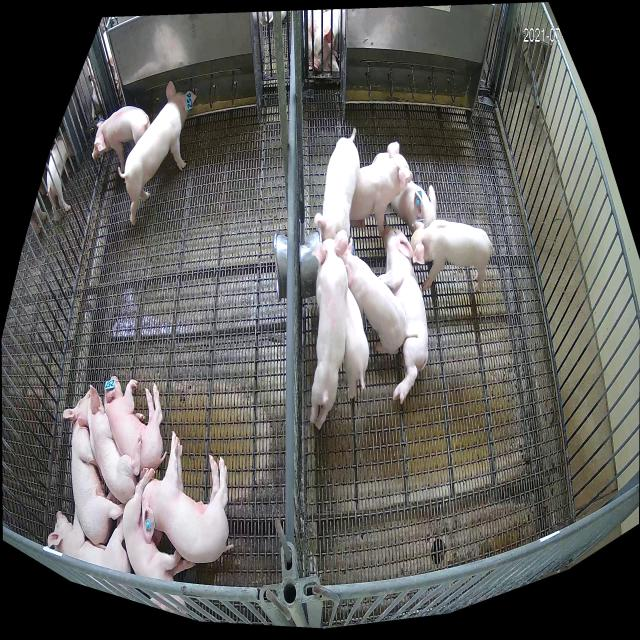pig: (142, 431, 234, 564), (118, 81, 197, 226), (123, 466, 196, 617), (63, 387, 125, 547), (378, 225, 428, 405), (344, 241, 417, 354), (76, 384, 142, 504), (310, 228, 348, 430), (411, 219, 494, 295), (350, 142, 413, 236), (104, 377, 164, 472), (47, 508, 131, 574), (314, 128, 360, 241), (91, 106, 150, 173), (345, 289, 369, 400), (390, 180, 437, 234)
